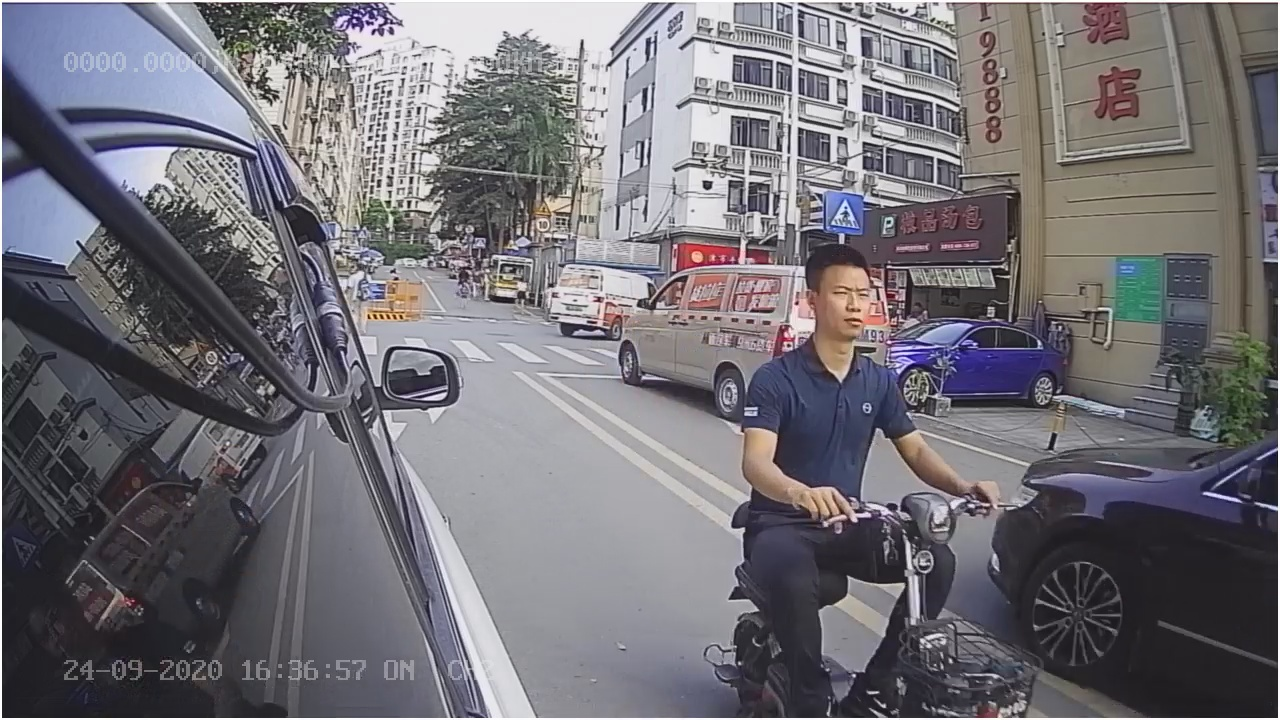person: (694, 244, 1001, 694)
